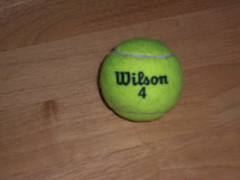tennis ball: (96, 36, 184, 123)
